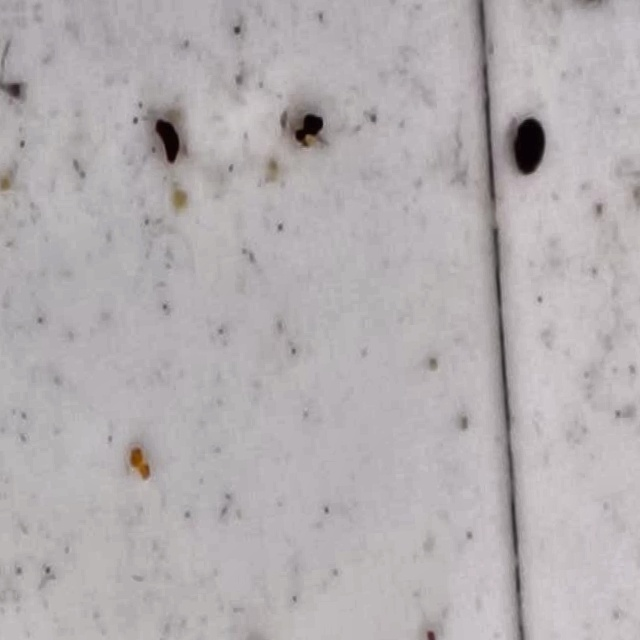varroa: (509, 117, 548, 179)
